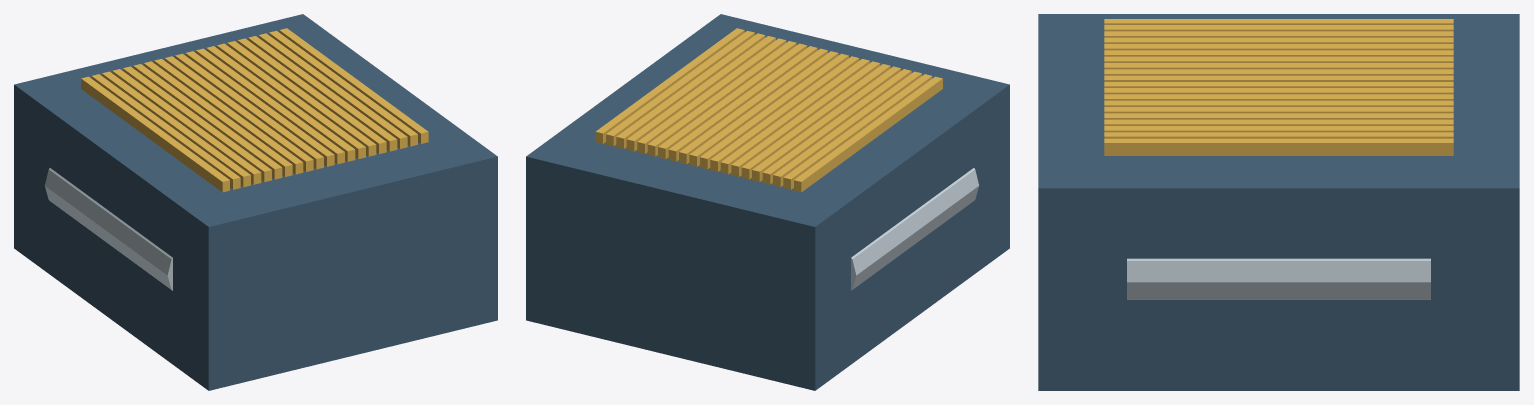
The model's file is 20_L79_NanoYPositioningActuator.fbx.
The picture shows the model from 3 angles, left to right: view 1: azimuth 30°, elevation 25°; view 2: azimuth 150°, elevation 25°; view 3: azimuth 270°, elevation 25°; orthographic projection. The views are drawn at different scales.
Parts seen in each view (by area): view 1: NanoYPositioningActuator; view 2: NanoYPositioningActuator; view 3: NanoYPositioningActuator.
Boxes of the visible parts, left/top/right/bottom form: NanoYPositioningActuator: left=14, top=14, right=497, bottom=390; NanoYPositioningActuator: left=526, top=14, right=1009, bottom=390; NanoYPositioningActuator: left=1038, top=14, right=1519, bottom=390.
Size of the model in its own units: 74.6 by 42.75 by 84.
